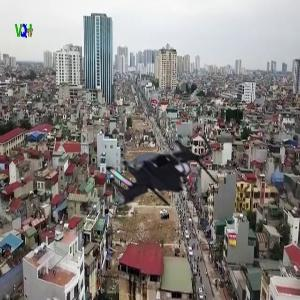drone: (96, 112, 222, 238)
